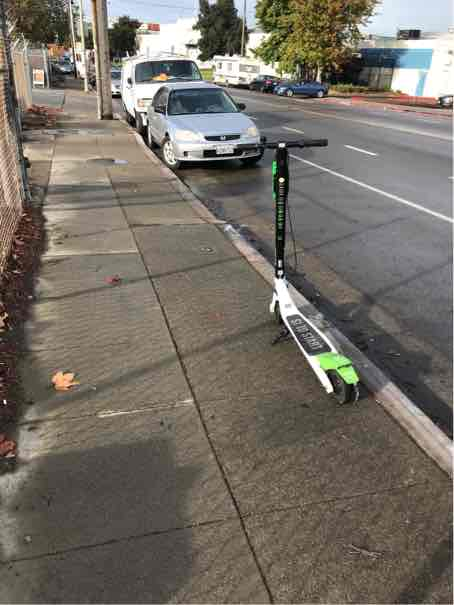scooter: (226, 136, 369, 414)
